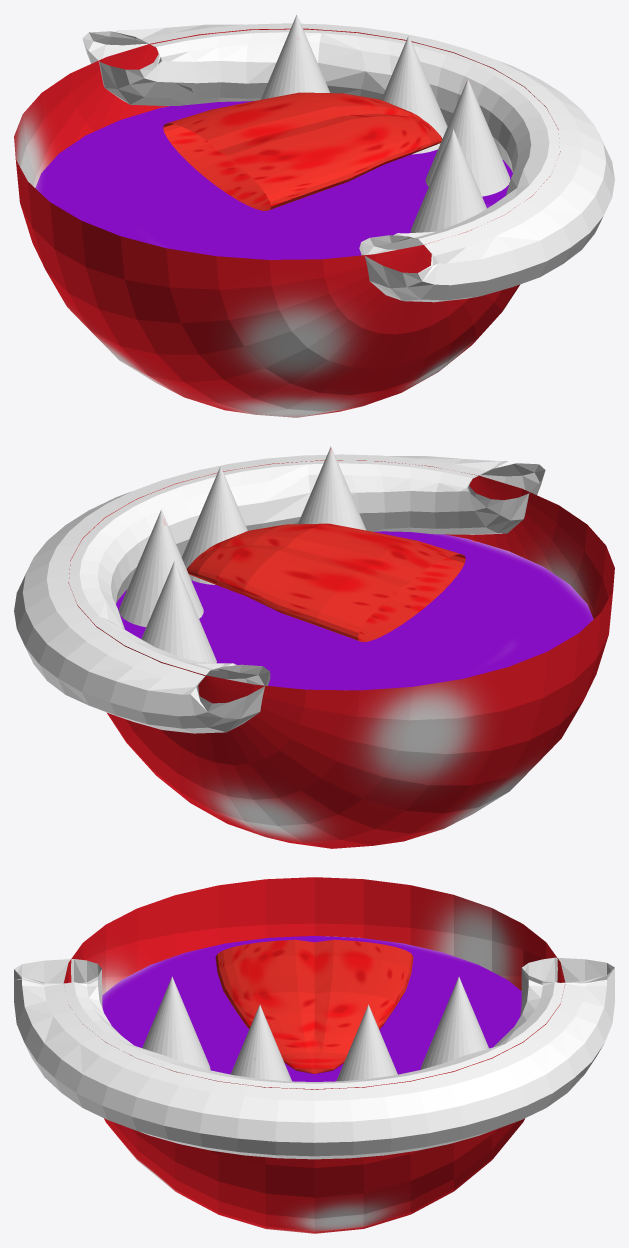
File: piranha plant_cabeza_inf.obj
3 renders of one model, top to bottom at view 1: azimuth 30°, elevation 25°; view 2: azimuth 150°, elevation 25°; view 3: azimuth 270°, elevation 25°, orthographic. The views are drawn at different scales.
Parts seen in each view (by area): view 1: cabeza_inf; view 2: cabeza_inf; view 3: cabeza_inf.
Part boxes in pixels (x1,y1,x2,y2): cabeza_inf: (14, 14, 614, 417); cabeza_inf: (14, 446, 614, 848); cabeza_inf: (14, 877, 614, 1233).
Bounding box in the file's own units: 0.4396 × 0.241 × 0.4791.
3 materials, 3 textured.
